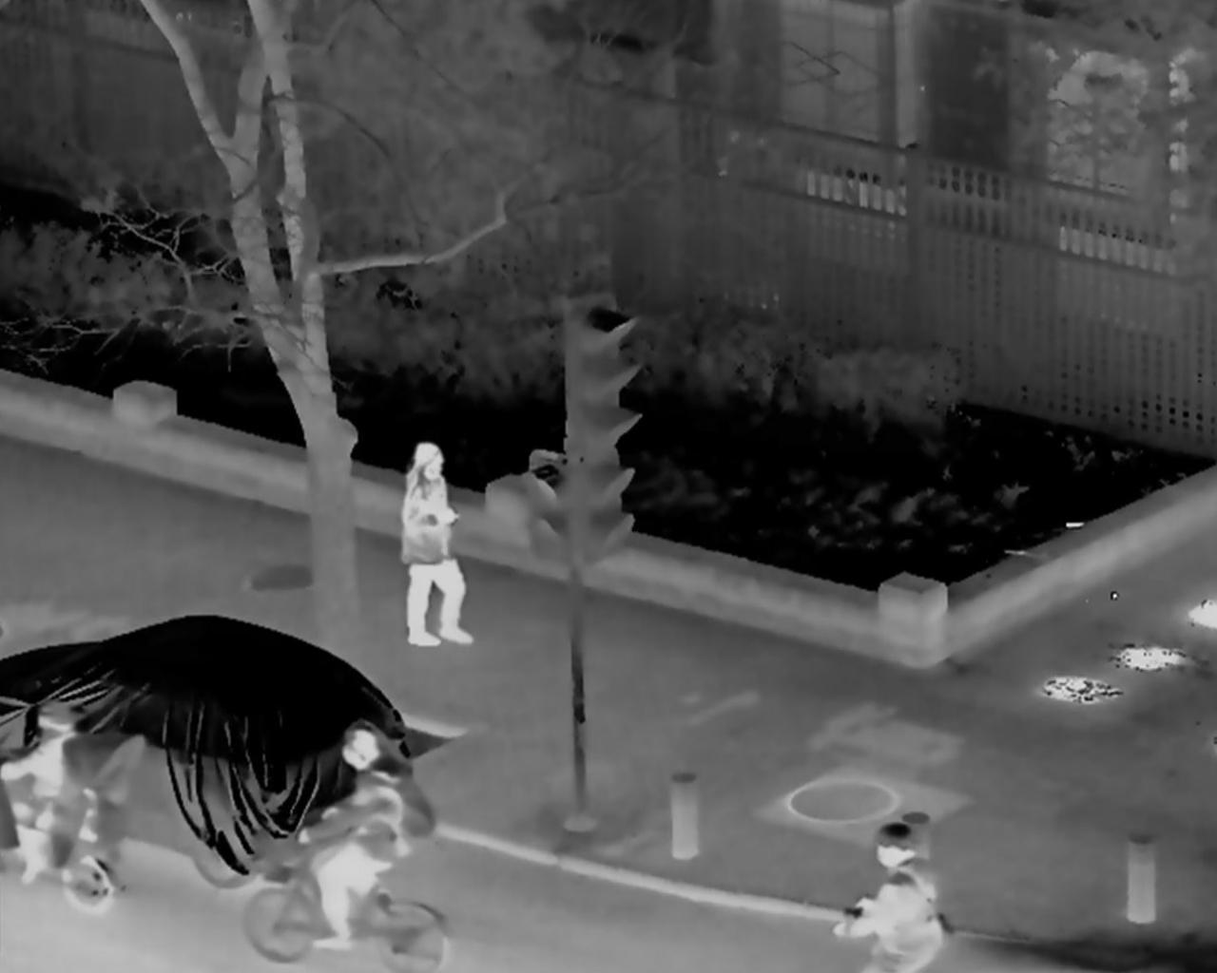person: (293, 731, 425, 940), (396, 441, 471, 652), (838, 821, 942, 971), (3, 704, 87, 879)
